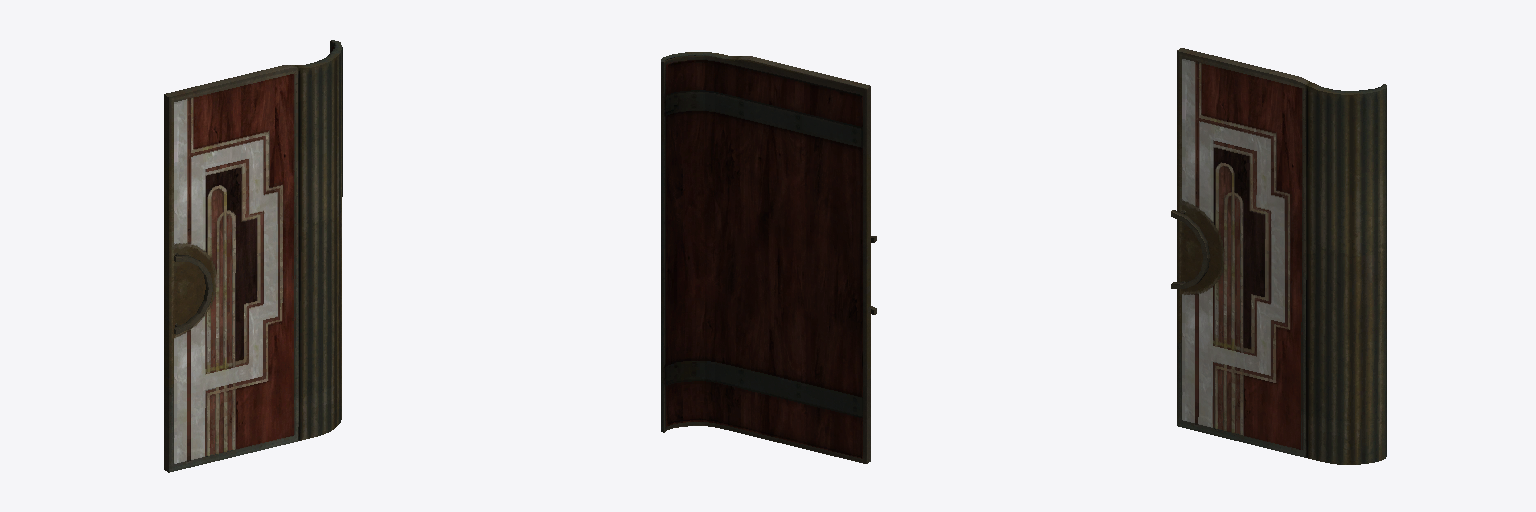
3 views of the same model, side by side, from view 1: azimuth 30°, elevation 25°; view 2: azimuth 150°, elevation 25°; view 3: azimuth 330°, elevation 25° (orthographic).
Visible parts, largest first — view 1: ArmoireDoorRight; view 2: ArmoireDoorRight; view 3: ArmoireDoorRight.
Boxes of the visible parts, x1,y1,x2,y2 form: ArmoireDoorRight: [164, 40, 342, 472]; ArmoireDoorRight: [661, 52, 876, 463]; ArmoireDoorRight: [1171, 48, 1386, 464].
Bounding box in the file's own units: 87.21 × 164 × 23.48.
1 materials, 1 textured.